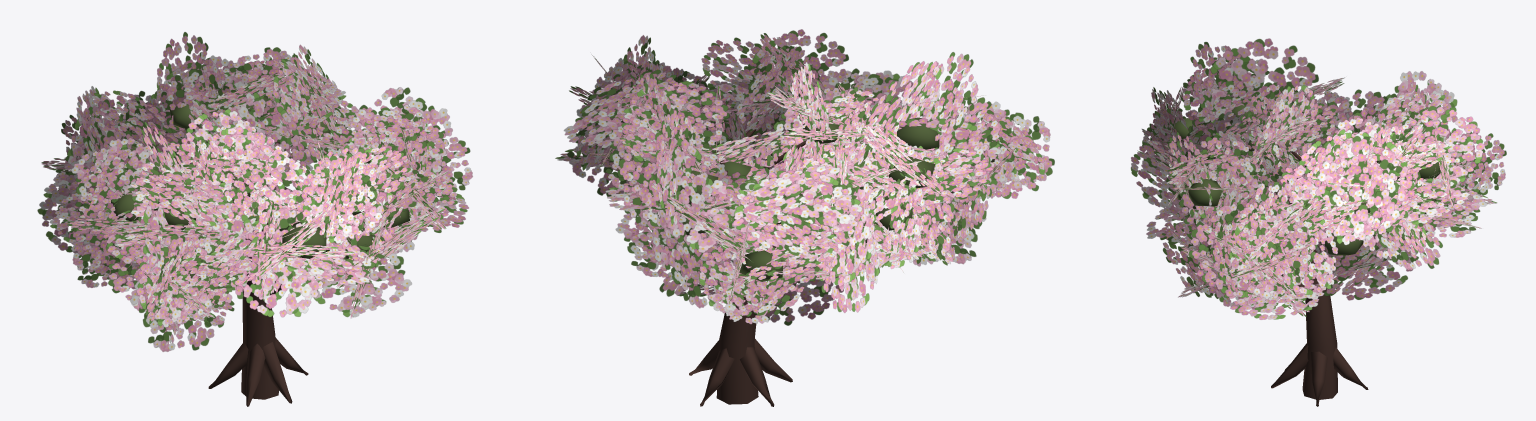
The model's file is nature_cherry2.glb.
The picture shows the model from 3 angles, left to right: view 1: azimuth 30°, elevation 25°; view 2: azimuth 150°, elevation 25°; view 3: azimuth 270°, elevation 25°; orthographic projection. The views are drawn at different scales.
Parts seen in each view (by area): view 1: nature_cherry2; view 2: nature_cherry2; view 3: nature_cherry2.
Part boxes in pixels (x1,y1,x2,y2): nature_cherry2: (37,32,472,406); nature_cherry2: (555,29,1054,406); nature_cherry2: (1130,38,1506,406).
Bounding box in the file's own units: 5.73 × 4.34 × 5.2.
Materials: 3 (1 with a texture image).
